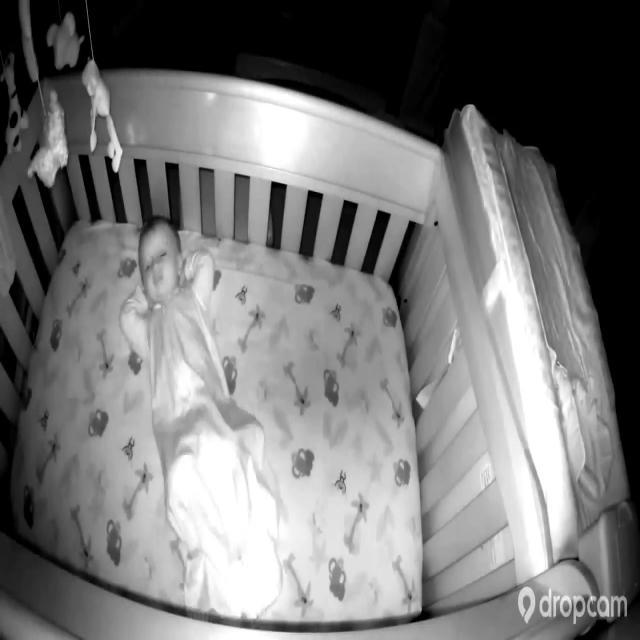baby: (121, 215, 278, 607)
